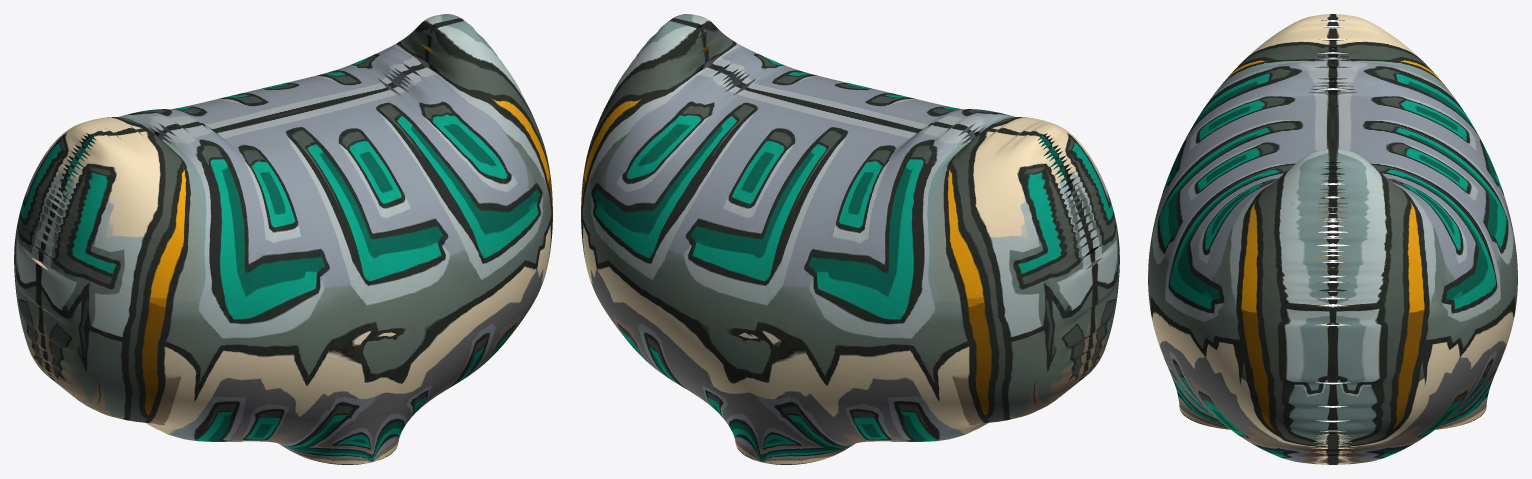
Rendered from hanging_console.glb.
3 views of the same model, side by side, from view 1: azimuth 30°, elevation 25°; view 2: azimuth 150°, elevation 25°; view 3: azimuth 270°, elevation 25° (orthographic). The views are drawn at different scales.
Visible parts, largest first — view 1: hanging_console; view 2: hanging_console; view 3: hanging_console.
Part boxes in pixels (x1,y1,x2,y2): hanging_console: [14, 14, 552, 464]; hanging_console: [581, 14, 1119, 464]; hanging_console: [1148, 14, 1517, 464].
Bounding box in the file's own units: 0.989 × 0.6625 × 0.683.
1 material, 1 textured.
